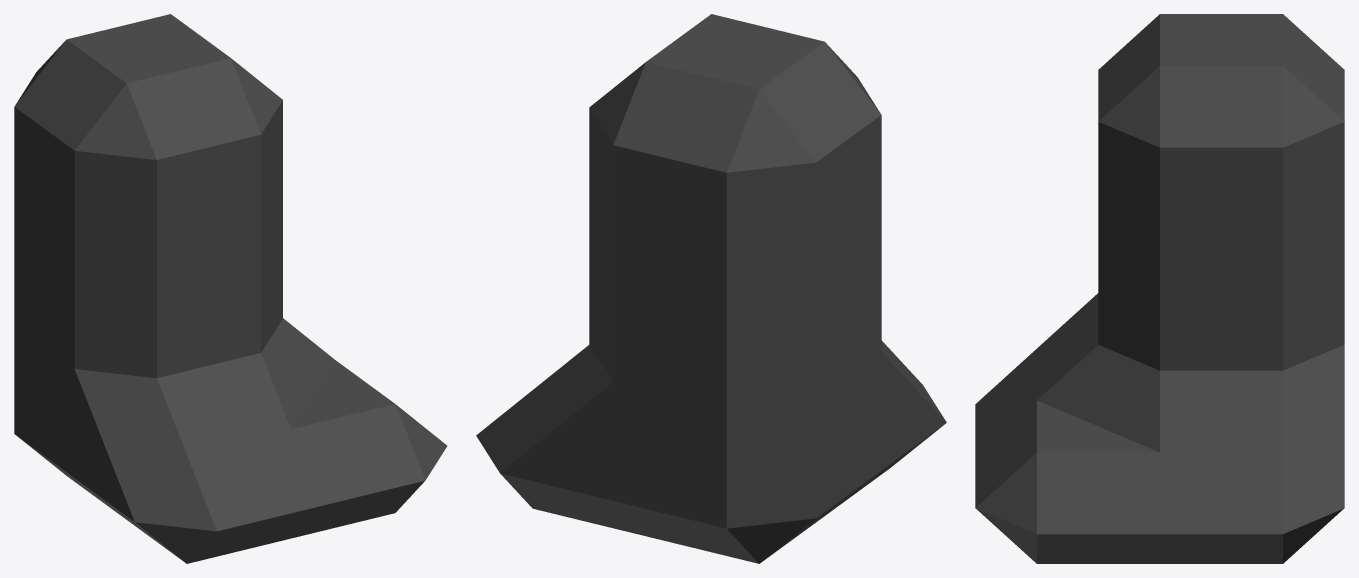
Rendered from Leg_L.glb.
3 views of the same model, side by side, from view 1: azimuth 30°, elevation 25°; view 2: azimuth 150°, elevation 25°; view 3: azimuth 270°, elevation 25° (orthographic). The views are drawn at different scales.
Visible parts, largest first — view 1: pl0; view 2: pl0; view 3: pl0.
Boxes of the visible parts, <box> form: pl0: <box>14,14,447,563</box>; pl0: <box>476,14,946,563</box>; pl0: <box>975,14,1344,563</box>.
Size of the model in its own units: 0.3 by 0.4 by 0.3.
1 material, 1 textured.
